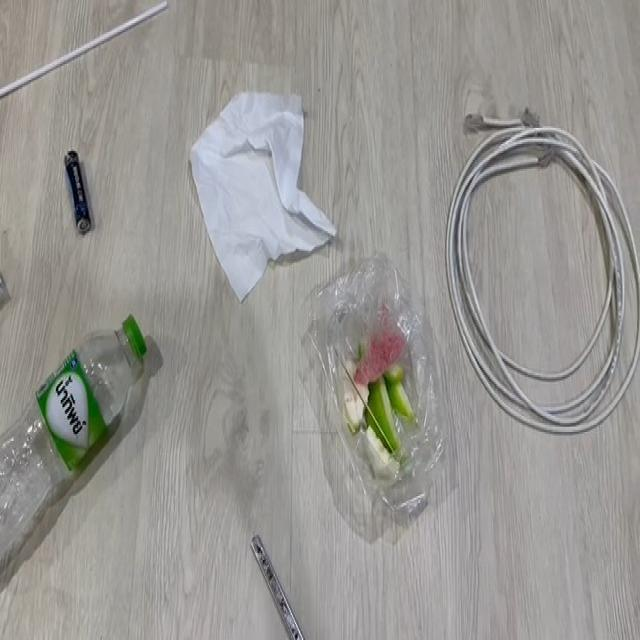Anorganik: (0, 358, 198, 556), (195, 80, 332, 304), (13, 15, 174, 80), (251, 531, 318, 640), (0, 253, 21, 327)
B3: (468, 126, 640, 428), (321, 286, 466, 526), (64, 139, 98, 243)
